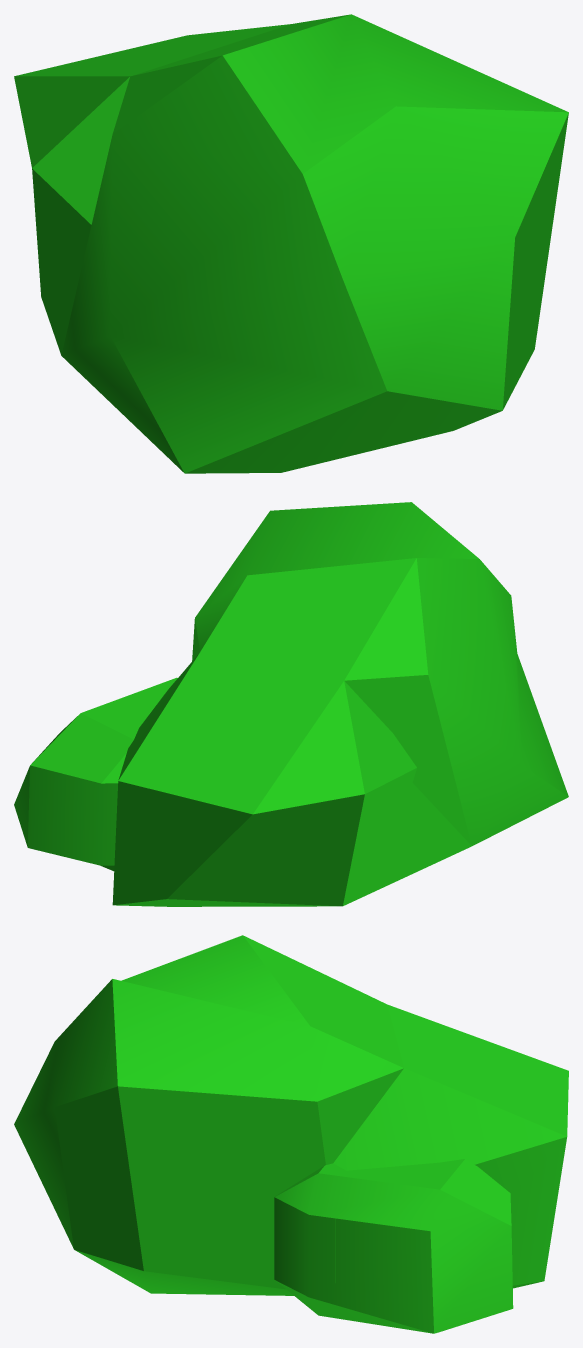
Rendered from grannyBush2.fbx.
The picture shows the model from 3 angles, top to bottom: view 1: azimuth 30°, elevation 25°; view 2: azimuth 150°, elevation 25°; view 3: azimuth 270°, elevation 25°; orthographic projection. The views are drawn at different scales.
Visible parts, largest first — view 1: treeBush.002; view 2: treeBush.002 (×2); view 3: treeBush.002 (×2).
Boxes of the visible parts, x1,y1,x2,y2 form: treeBush.002: (14,14,568,473); treeBush.002 (×2): (14,502,568,906); treeBush.002 (×2): (14,935,568,1333).
Size of the model in its own units: 556 by 396 by 666.
